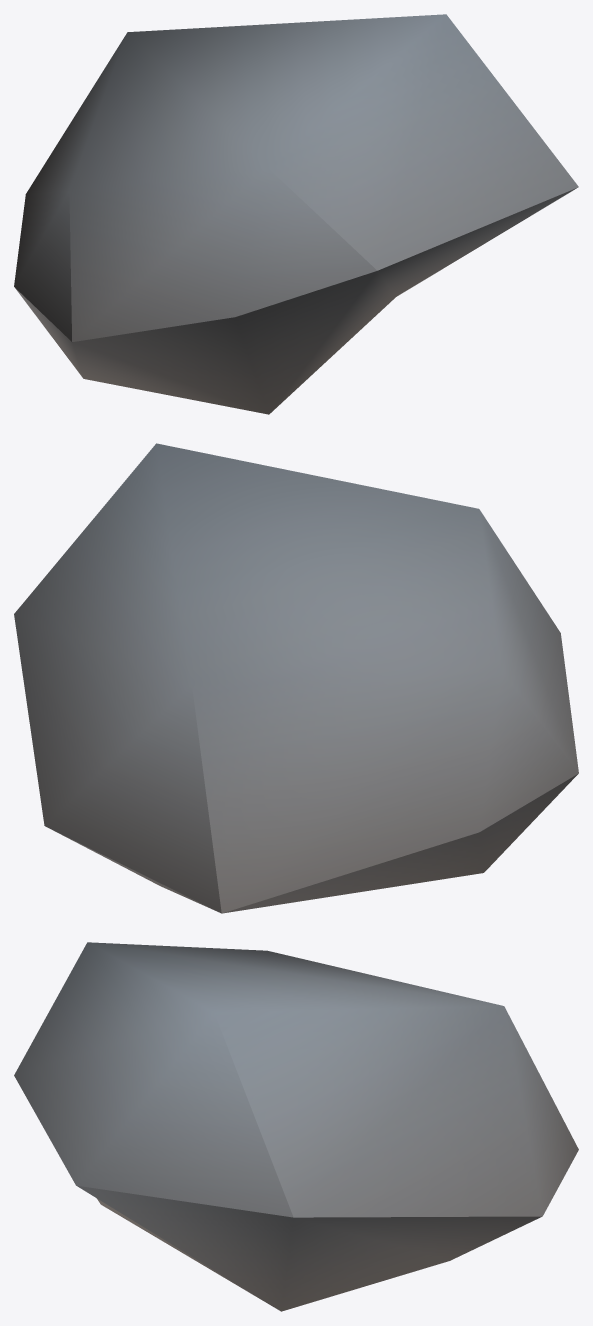
The picture shows the model from 3 angles, top to bottom: view 1: azimuth 30°, elevation 25°; view 2: azimuth 150°, elevation 25°; view 3: azimuth 270°, elevation 25°; orthographic projection. The views are drawn at different scales.
Visible parts, largest first — view 1: Cube.010; view 2: Cube.010; view 3: Cube.010.
Boxes of the visible parts, x1,y1,x2,y2 form: Cube.010: (14, 14, 578, 414); Cube.010: (14, 443, 578, 913); Cube.010: (14, 942, 578, 1311).
Bounding box in the file's own units: 7.62 × 4.58 × 7.63.
